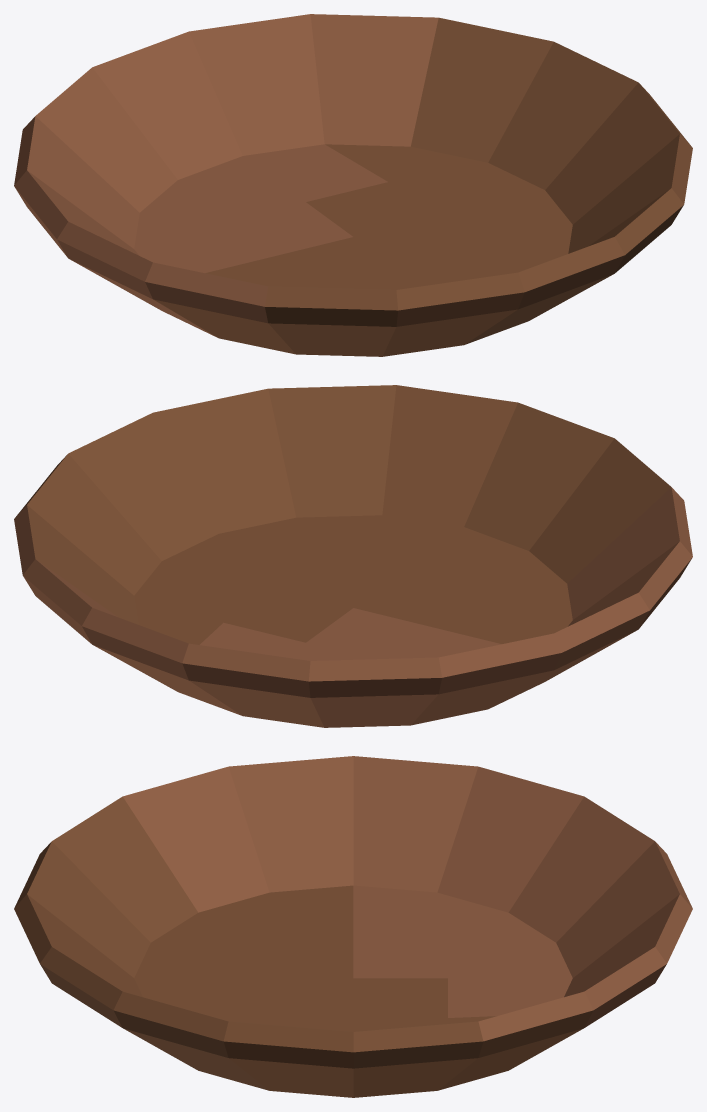
The model's file is plate.glb.
The picture shows the model from 3 angles, top to bottom: view 1: azimuth 30°, elevation 25°; view 2: azimuth 150°, elevation 25°; view 3: azimuth 270°, elevation 25°; orthographic projection.
Parts seen in each view (by area): view 1: Plate; view 2: Plate; view 3: Plate.
Part boxes in pixels (x1=…): Plate: x1=14, y1=14, x2=692, y2=356; Plate: x1=14, y1=385, x2=692, y2=727; Plate: x1=14, y1=756, x2=692, y2=1097.
Bounding box in the file's own units: 0.25 × 0.0452 × 0.25.
